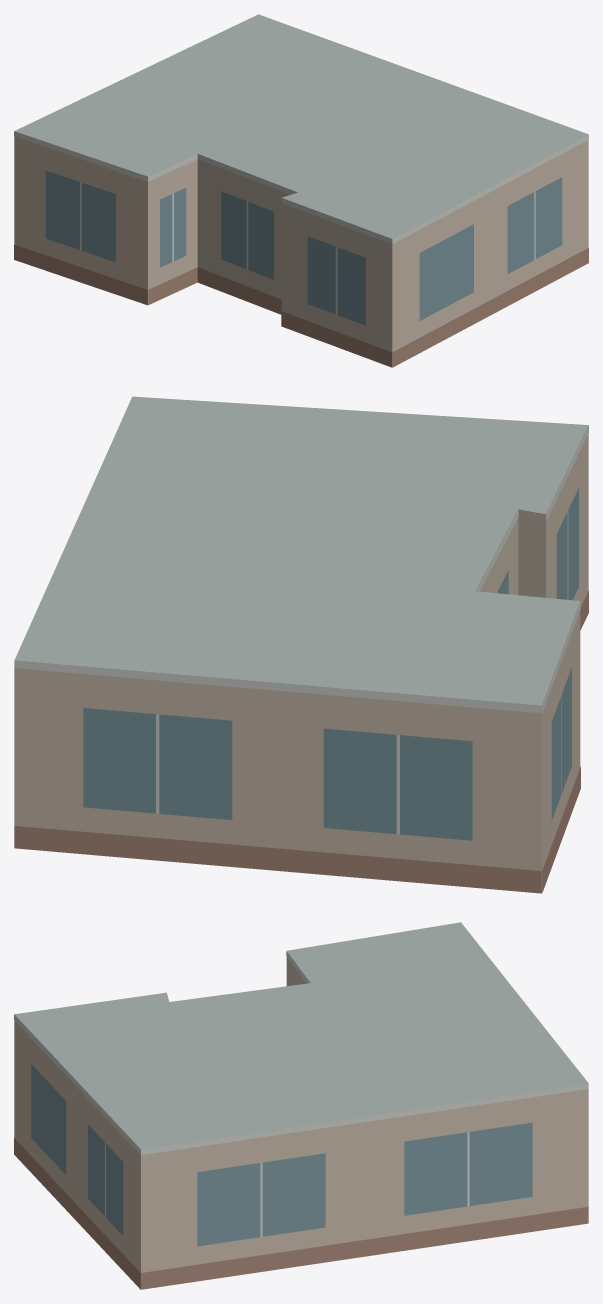
Rendered from survey-upis-33047284.glb.
3 views of the same model, one above another, from view 1: azimuth 30°, elevation 25°; view 2: azimuth 150°, elevation 25°; view 3: azimuth 270°, elevation 25° (orthographic). The views are drawn at different scales.
Visible parts, largest first — view 1: survey-upis-33047284.tmp; view 2: survey-upis-33047284.tmp; view 3: survey-upis-33047284.tmp.
Boxes of the visible parts, box(x1,y1,x2,y2) form: survey-upis-33047284.tmp: box(14, 14, 588, 367); survey-upis-33047284.tmp: box(14, 396, 588, 893); survey-upis-33047284.tmp: box(14, 922, 588, 1289).
Size of the model in its own units: 10.62 by 3.05 by 11.34.
